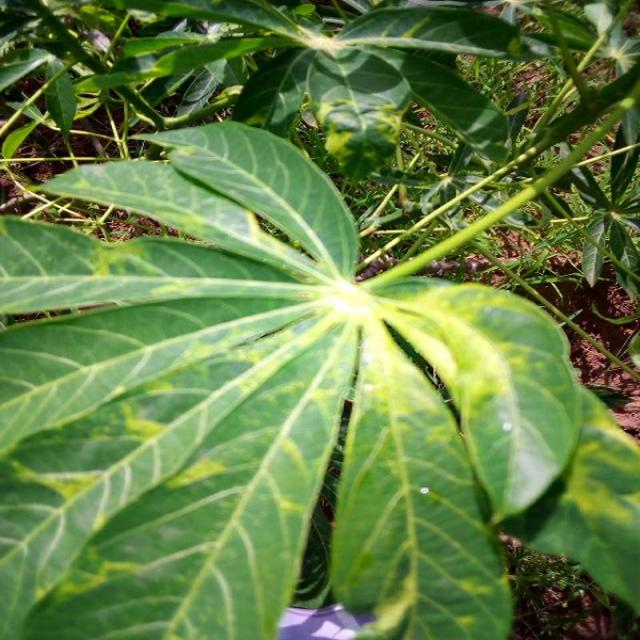cassava leaf: (1, 117, 637, 638)
